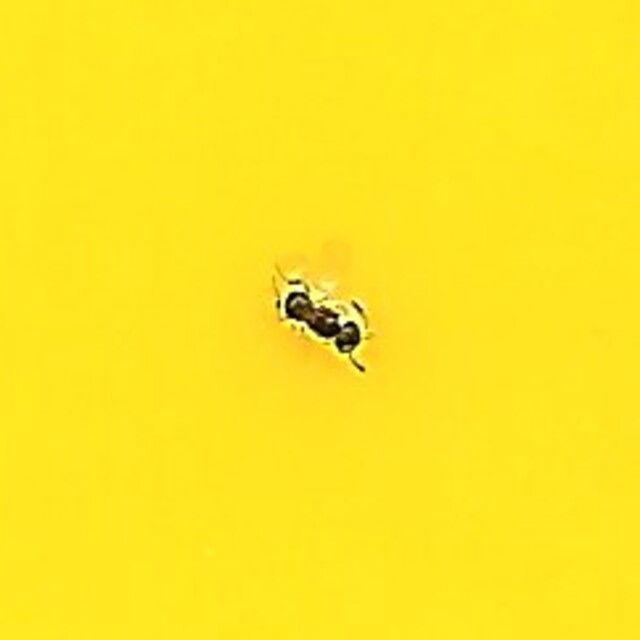Hymenoptera: (264, 263, 376, 377)
